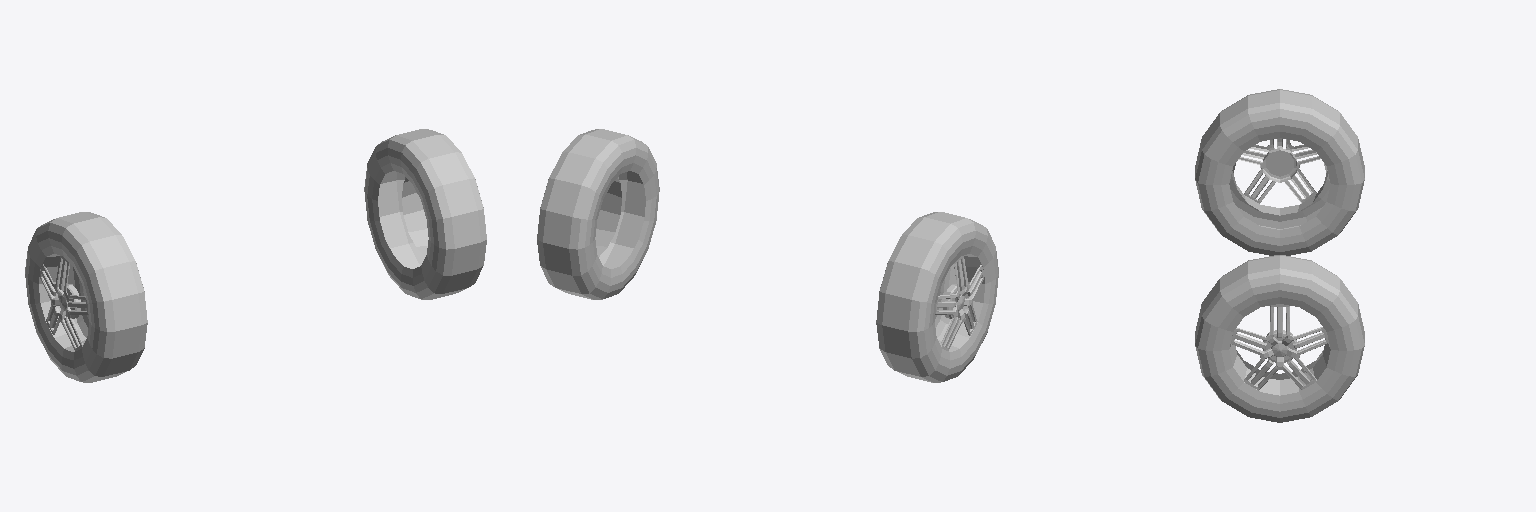
The model's file is 2003eclipse_rear_wheels.obj.
3 renders of one model, left to right at view 1: azimuth 30°, elevation 25°; view 2: azimuth 150°, elevation 25°; view 3: azimuth 270°, elevation 25°, orthographic.
Parts seen in each view (by area): view 1: wheels_n_acc.001_wheels_n_acc.002; view 2: wheels_n_acc.001_wheels_n_acc.002; view 3: wheels_n_acc.001_wheels_n_acc.002.
Boxes of the visible parts, x1=… form: wheels_n_acc.001_wheels_n_acc.002: x1=25, y1=129, x2=486, y2=382; wheels_n_acc.001_wheels_n_acc.002: x1=537, y1=129, x2=998, y2=382; wheels_n_acc.001_wheels_n_acc.002: x1=1195, y1=89, x2=1364, y2=422.
Size of the model in its own units: 5.65 by 2.12 by 2.12.